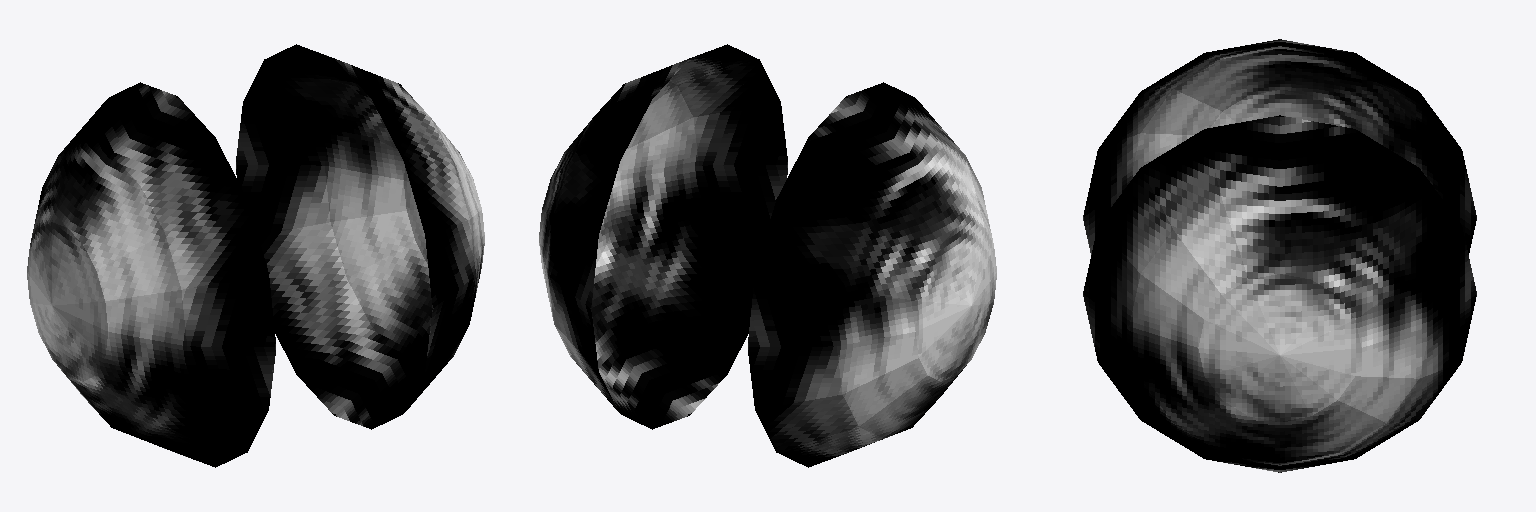
3 renders of one model, left to right at view 1: azimuth 30°, elevation 25°; view 2: azimuth 150°, elevation 25°; view 3: azimuth 270°, elevation 25°, orthographic.
Visible parts, largest first — view 1: polygon0; view 2: polygon0; view 3: polygon0.
Part boxes in pixels (x1,y1,x2,y2): polygon0: (27,44,484,467); polygon0: (539,44,996,467); polygon0: (1083,39,1476,472).
Size of the model in its own units: 10.76 by 9.01 by 9.01.
Materials: 1 (1 with a texture image).